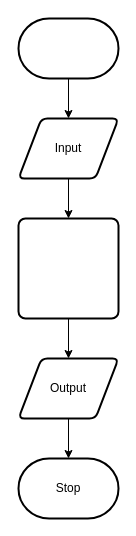
Image size: 136x536. Some labels were removed from this diagram. The shapes that lost their labels are listed below. From the top down, each one's box as (x1, y1, x2, y2) in pixels, then its label:
(17, 17, 119, 79): Start
(17, 217, 119, 319): process
